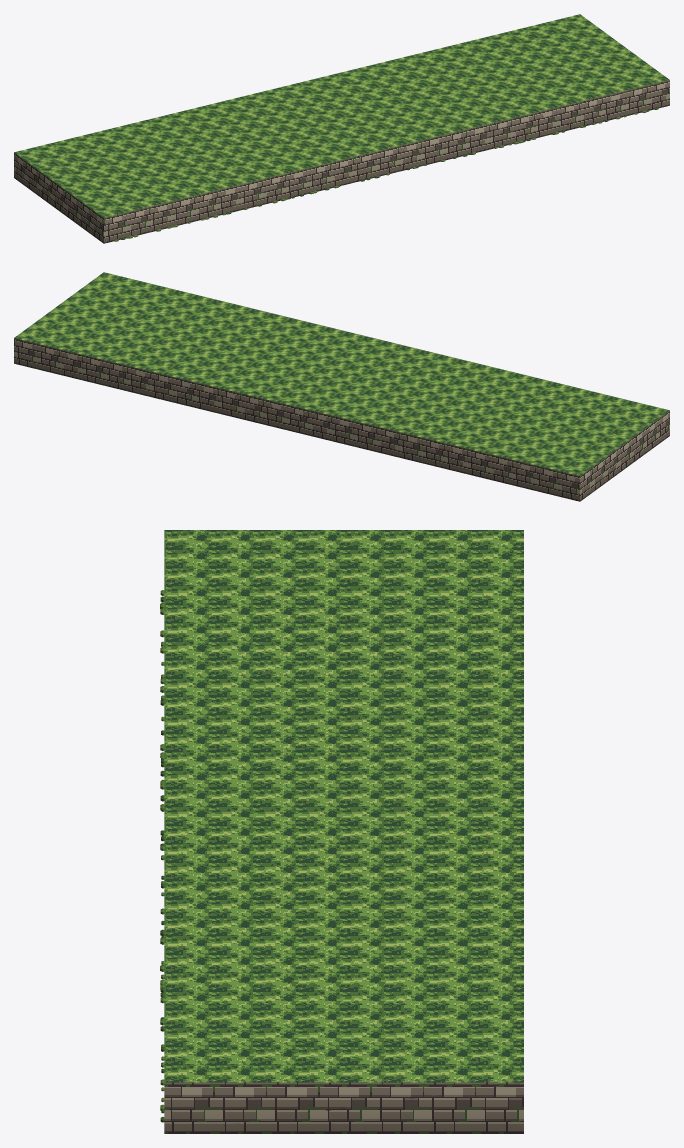
Rendered from scene_terrace_back.glb.
3 views of the same model, one above another, from view 1: azimuth 30°, elevation 25°; view 2: azimuth 150°, elevation 25°; view 3: azimuth 270°, elevation 25° (orthographic). The views are drawn at different scales.
Visible parts, largest first — view 1: scene_terrace_back; view 2: scene_terrace_back; view 3: scene_terrace_back.
Part boxes in pixels (left/top/right/bottom): scene_terrace_back: left=14, top=14, right=669, bottom=243; scene_terrace_back: left=14, top=272, right=669, bottom=501; scene_terrace_back: left=160, top=530, right=523, bottom=1133.
Bounding box in the file's own units: 60 × 2.69 × 16.69.
3 materials, 2 textured.
